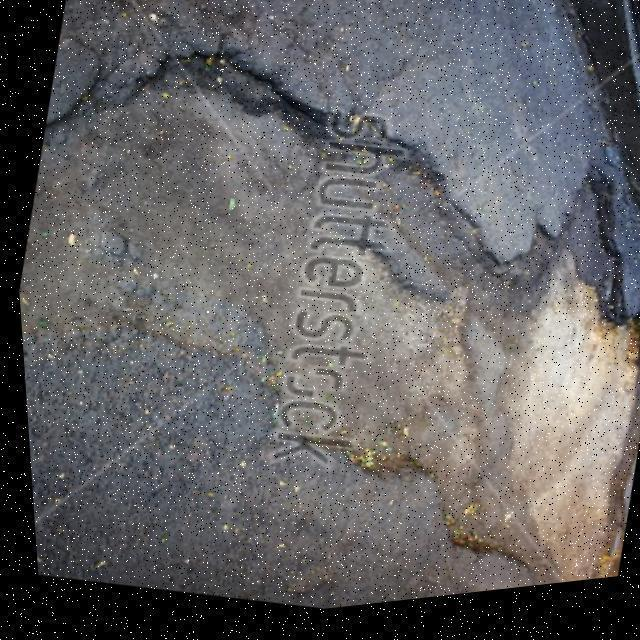Pothole: (15, 36, 640, 599)
